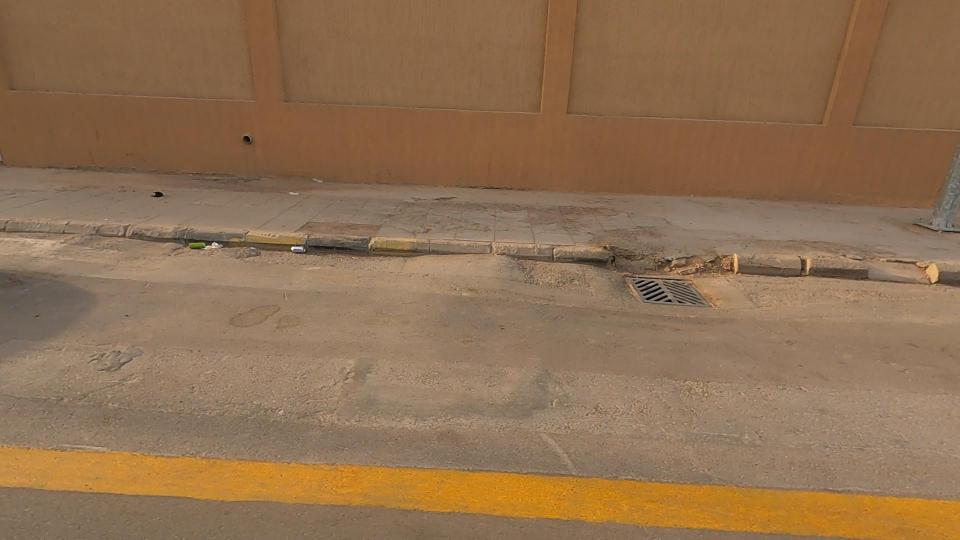GARBAGE: (151, 221, 265, 271), (258, 161, 333, 228), (286, 155, 352, 196), (264, 231, 319, 271)
